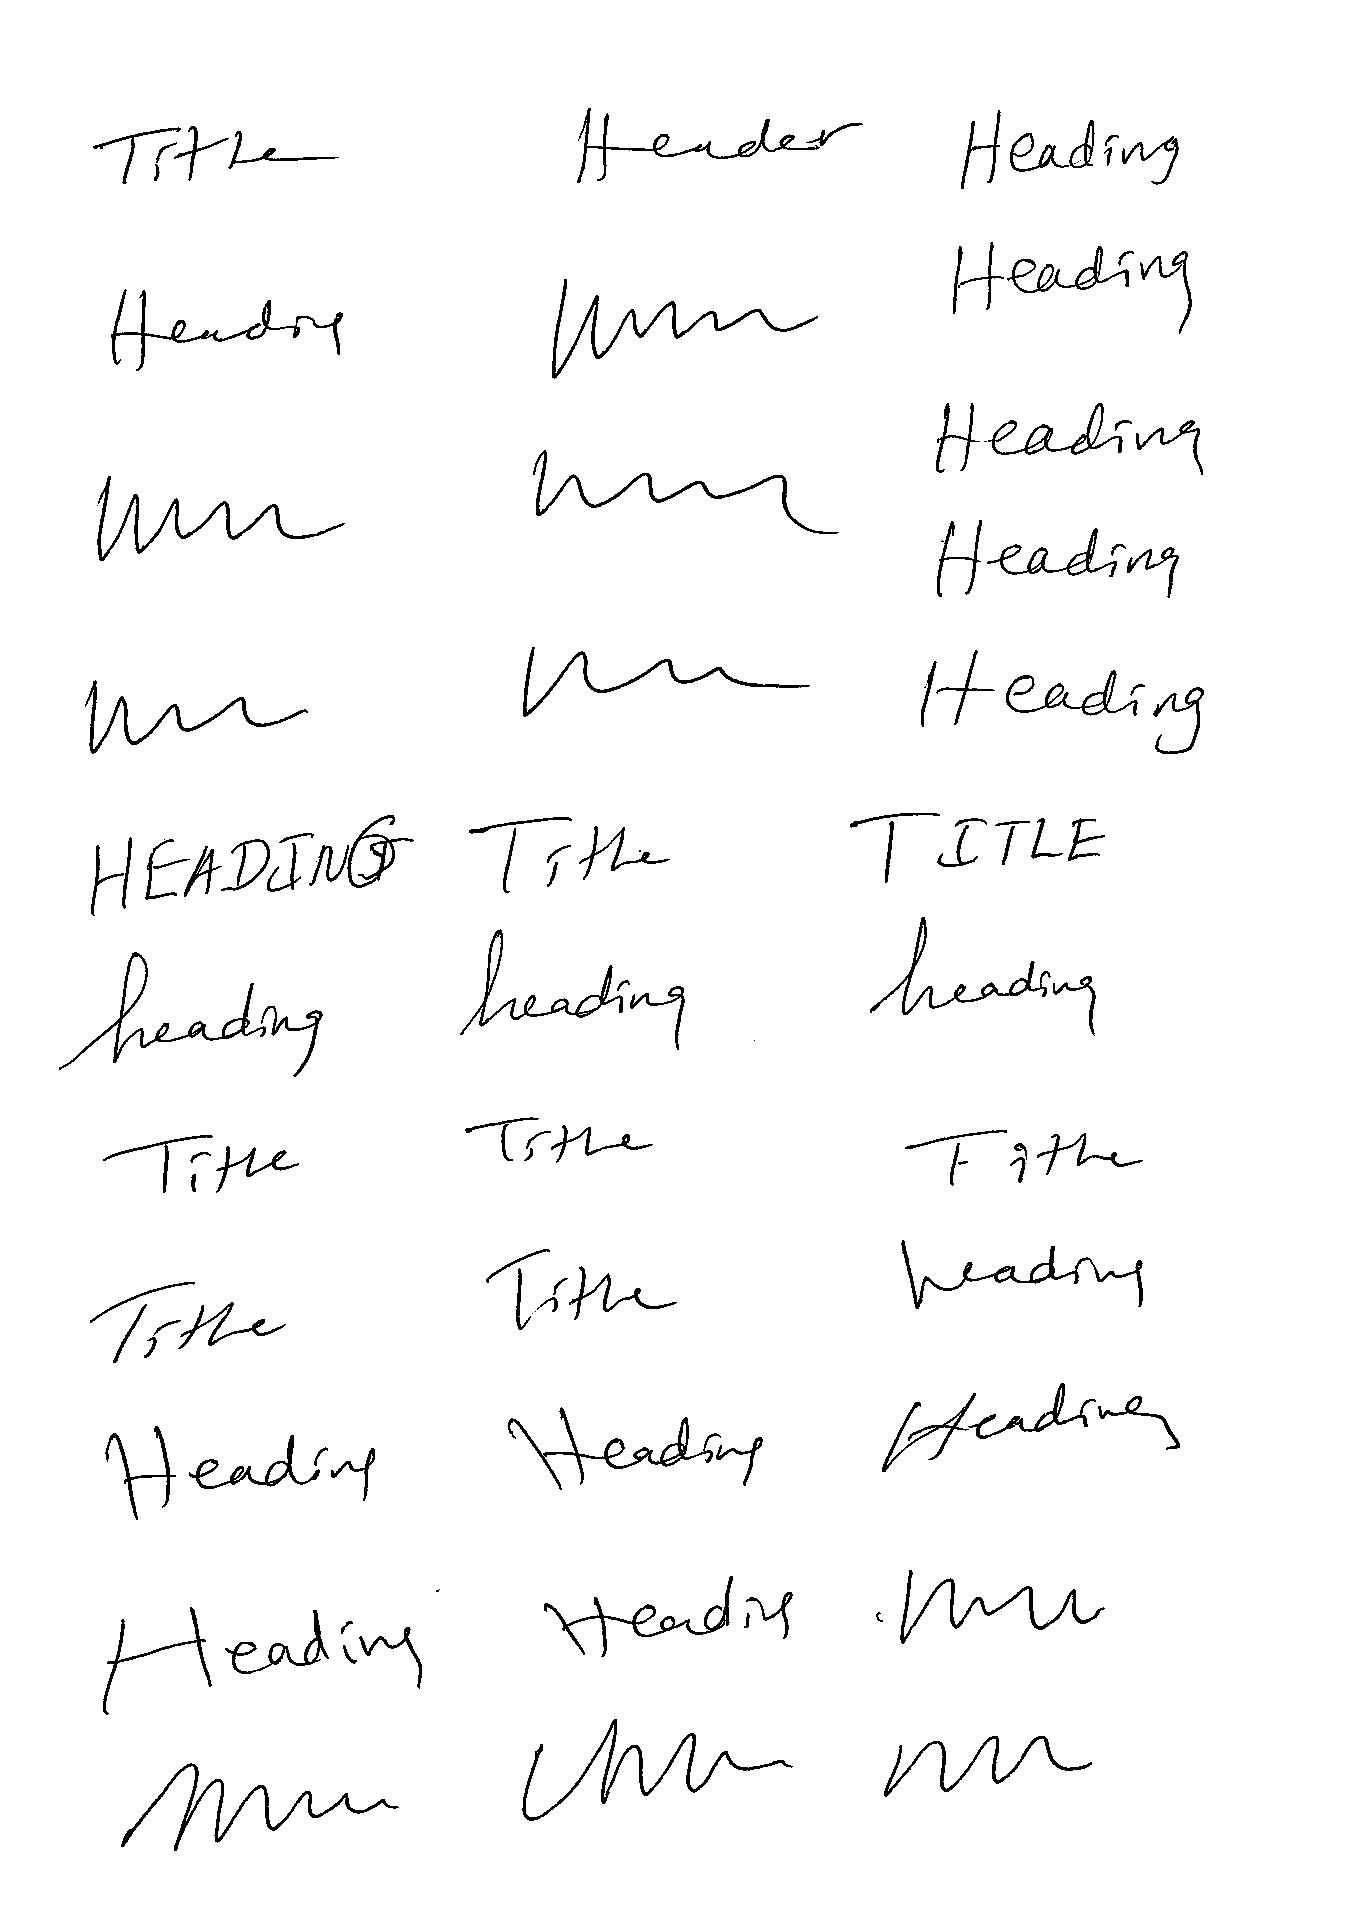Heading: (56, 946, 324, 1084), (98, 1604, 424, 1717), (86, 812, 410, 920), (917, 642, 1203, 757), (520, 1711, 801, 1826), (862, 909, 1098, 1039), (877, 1381, 1186, 1477), (547, 276, 826, 381), (454, 924, 687, 1048), (103, 1421, 376, 1524), (529, 447, 835, 537), (118, 1759, 401, 1851), (95, 467, 349, 566), (577, 98, 863, 183), (949, 234, 1197, 331), (520, 639, 812, 719), (927, 399, 1212, 481), (540, 1569, 794, 1657), (500, 1406, 766, 1490), (106, 282, 349, 374), (896, 1232, 1149, 1316), (931, 516, 1180, 600), (846, 807, 1106, 886), (87, 671, 312, 759), (956, 109, 1183, 194), (87, 118, 341, 189), (902, 1124, 1146, 1198), (87, 1277, 287, 1368), (463, 812, 673, 896), (896, 1566, 1107, 1647), (483, 1246, 682, 1332), (881, 1736, 1093, 1802), (101, 1131, 302, 1199), (461, 1116, 659, 1170)
